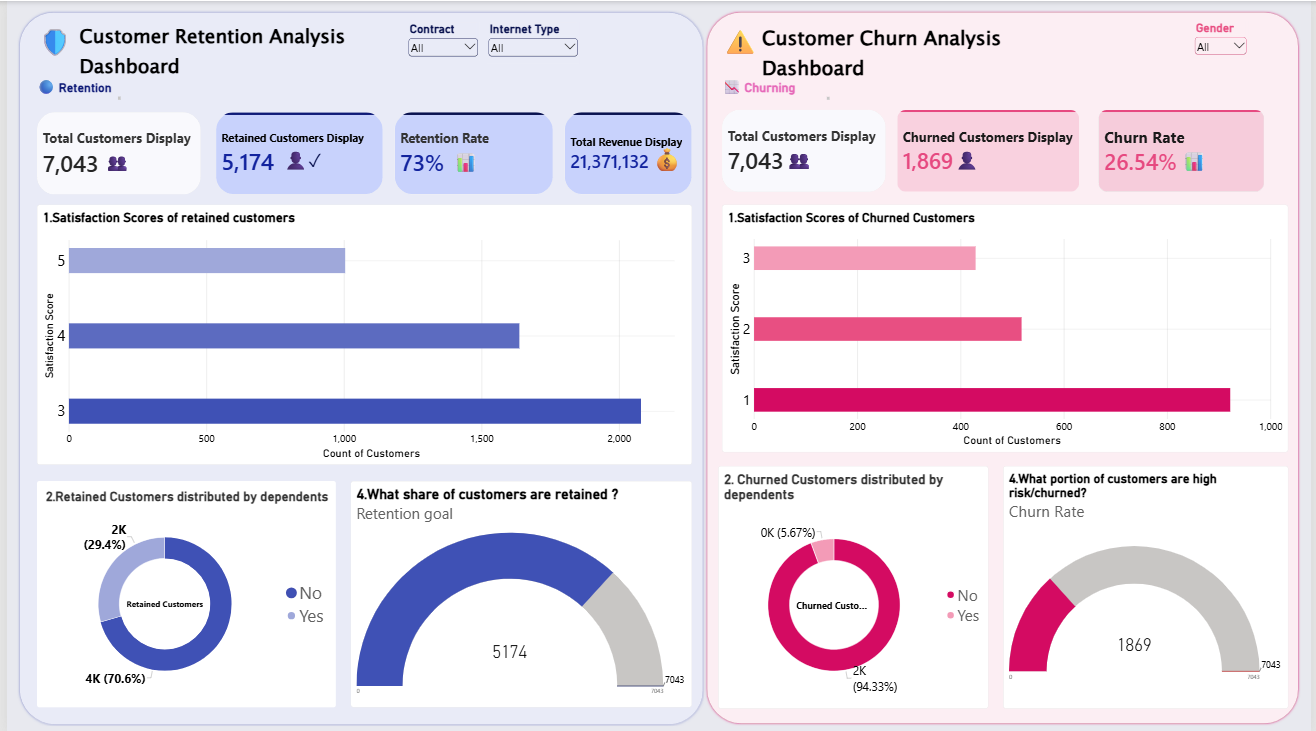

What the dashboard file says about the page in this screenshot:
{"tool":"powerbi","page":{"name":" Churn & Retention overview ","canvas":[3840,2160],"ordinal":1},"visuals":[{"type":"shape","box":[29.4,25.8,2024.6,2109.2],"z":6},{"type":"shape","box":[2054,25.8,1755.8,2109.2],"z":7},{"type":"textbox","title":"🛡️ ","box":[88.3,62.6,114.1,128.8],"z":8},{"type":"textbox","title":"Customer Retention Analysis Dashboard","box":[213.5,62.6,798.8,162],"z":9},{"type":"textbox","title":"🔵 Retention ","box":[88.3,224.5,246.6,66.3],"z":10},{"type":"cardVisual","fields":{"Data":["Customer Churn Status.Total Customers Display"]},"box":[88.3,327.6,482.2,242.9],"z":11},{"type":"cardVisual","fields":{"Data":["Customer Churn Status.Retained Customers Display"]},"box":[614.7,327.6,493.3,242.9],"z":12},{"type":"cardVisual","fields":{"Data":["Customer Churn Status.Retention Rate"]},"box":[1141.1,327.6,467.5,242.9],"z":13},{"type":"cardVisual","fields":{"Data":["customer churn services.Total Revenue Display"]},"box":[1641.7,327.6,375.5,242.9],"z":14},{"type":"textbox","title":"👥","box":[287.1,430.7,88.3,106.7],"z":15},{"type":"textbox","title":"👤✓ ","box":[813.5,430.7,154.6,125.2],"z":16},{"type":"textbox","title":"📊","box":[1314.1,438,128.8,125.2],"z":17},{"type":"textbox","title":"💰","box":[1895.7,416,121.5,147.2],"z":18},{"type":"slicer","fields":{"Values":["customer churn services.Contract"]},"box":[1177.9,62.6,213.5,114.1],"z":19},{"type":"slicer","fields":{"Values":["customer churn services.Internet Type"]},"box":[1413.5,62.6,272.4,121.5],"z":20},{"type":"slicer","fields":{"Values":["customer churn demographics.Gender"]},"box":[3493.3,58.9,162,114.1],"z":21},{"type":"textbox","title":"⚠️","box":[2105.5,58.9,117.8,132.5],"z":22},{"type":"textbox","title":"Customer Churn Analysis Dashboard","box":[2223.3,66.3,710.4,191.4],"z":23},{"type":"textbox","title":"📉 Churning","box":[2105.5,224.5,316.6,66.3],"z":24},{"type":"cardVisual","fields":{"Data":["Customer Churn Status.Total Customers Display"]},"box":[2105.5,320.2,482.2,242.9],"z":25},{"type":"cardVisual","fields":{"Data":["Customer Churn Status.Churned Customers Display"]},"box":[2620.9,320.2,537.4,242.9],"z":26},{"type":"cardVisual","fields":{"Data":["Customer Churn Status.Churn Rate"]},"box":[3213.5,320.2,489.6,242.9],"z":27},{"type":"donutChart","title":"2.Retained Customers distributed by dependents","fields":{"Category":["customer churn demographics.Dependents"],"Y":["Customer Churn Status.Retained Customers"]},"box":[88.3,1413.5,879.8,666.3],"z":28},{"type":"donutChart","title":"2. Churned Customers distributed by dependents","fields":{"Category":["customer churn demographics.Dependents"],"Y":["Customer Churn Status.Churned Customers"]},"box":[2094.5,1369.3,795.1,714.1],"z":29},{"type":"gauge","title":"4.What share of customers are retained ?","fields":{"MaxValue":["Customer Churn Status.TOTAL CUSTOMERS"],"TargetValue":["Customer Churn Status.TOTAL CUSTOMERS"],"Y":["Customer Churn Status.Retained Customers"]},"box":[1012.3,1413.5,1004.9,666.3],"z":30},{"type":"gauge","title":"4.What portion of customers are high risk/churned?","fields":{"MaxValue":["Customer Churn Status.TOTAL CUSTOMERS"],"TargetValue":["Customer Churn Status.TOTAL CUSTOMERS"],"Y":["Customer Churn Status.Churned Customers"]},"box":[2933.8,1369.3,839.3,714.1],"z":31},{"type":"clusteredBarChart","title":"1.Satisfaction Scores of retained customers","fields":{"Category":["Customer Churn Status.Satisfaction Score"],"Y":["CountNonNull(customer churn services.Customer ID)"]},"box":[88.3,600,1928.8,765.6],"z":32},{"type":"clusteredBarChart","title":"1.Satisfaction Scores of Churned Customers","fields":{"Category":["Customer Churn Status.Satisfaction Score"],"Y":["CountNonNull(Customer Churn Status.Customer ID)"]},"box":[2105.5,600,1667.5,728.8],"z":33},{"type":"textbox","title":"👥 ","box":[2293.3,423.3,92,106.7],"z":34},{"type":"textbox","title":"👤","box":[2790.2,430.7,99.4,99.4],"z":35},{"type":"textbox","title":"📊","box":[3460.1,434.4,88.3,114.1],"z":36}]}

Visuals, with their boxes in screenshot pixels (x1, y1, x2, y2), scaled from the page's 3840x2160 canvas onto the 1316x731 screenshot:
shape: Rect(10, 9, 704, 723)
shape: Rect(704, 9, 1306, 723)
"🛡️ " textbox: Rect(30, 21, 69, 65)
"Customer Retention Analysis Dashboard" textbox: Rect(73, 21, 347, 76)
"🔵 Retention " textbox: Rect(30, 76, 115, 98)
cardVisual - Customer Churn Status.Total Customers Display: Rect(30, 111, 196, 193)
cardVisual - Customer Churn Status.Retained Customers Display: Rect(211, 111, 380, 193)
cardVisual - Customer Churn Status.Retention Rate: Rect(391, 111, 551, 193)
cardVisual - customer churn services.Total Revenue Display: Rect(563, 111, 691, 193)
"👥" textbox: Rect(98, 146, 129, 182)
"👤✓ " textbox: Rect(279, 146, 332, 188)
"📊" textbox: Rect(450, 148, 494, 191)
"💰" textbox: Rect(650, 141, 691, 191)
slicer - customer churn services.Contract: Rect(404, 21, 477, 60)
slicer - customer churn services.Internet Type: Rect(484, 21, 578, 62)
slicer - customer churn demographics.Gender: Rect(1197, 20, 1253, 59)
"⚠️" textbox: Rect(722, 20, 762, 65)
"Customer Churn Analysis Dashboard" textbox: Rect(762, 22, 1005, 87)
"📉 Churning" textbox: Rect(722, 76, 830, 98)
cardVisual - Customer Churn Status.Total Customers Display: Rect(722, 108, 887, 191)
cardVisual - Customer Churn Status.Churned Customers Display: Rect(898, 108, 1082, 191)
cardVisual - Customer Churn Status.Churn Rate: Rect(1101, 108, 1269, 191)
"2.Retained Customers distributed by dependents" donutChart: Rect(30, 478, 332, 704)
"2. Churned Customers distributed by dependents" donutChart: Rect(718, 463, 990, 705)
"4.What share of customers are retained ?" gauge: Rect(347, 478, 691, 704)
"4.What portion of customers are high risk/churned?" gauge: Rect(1005, 463, 1293, 705)
"1.Satisfaction Scores of retained customers" clusteredBarChart: Rect(30, 203, 691, 462)
"1.Satisfaction Scores of Churned Customers" clusteredBarChart: Rect(722, 203, 1293, 450)
"👥 " textbox: Rect(786, 143, 817, 179)
"👤" textbox: Rect(956, 146, 990, 179)
"📊" textbox: Rect(1186, 147, 1216, 186)
